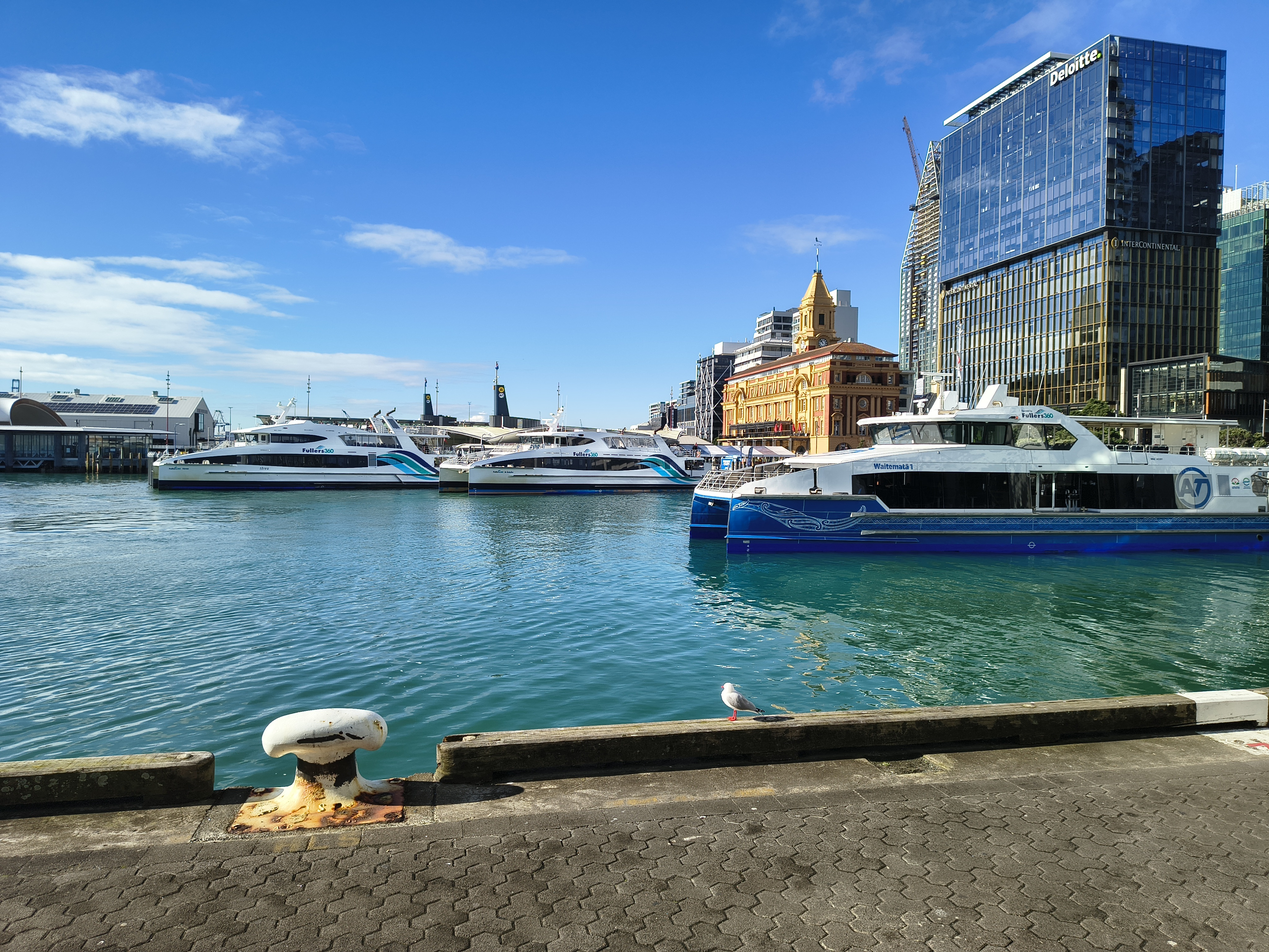ferry: (692, 384, 1269, 553), (150, 412, 448, 490), (437, 425, 700, 494)
